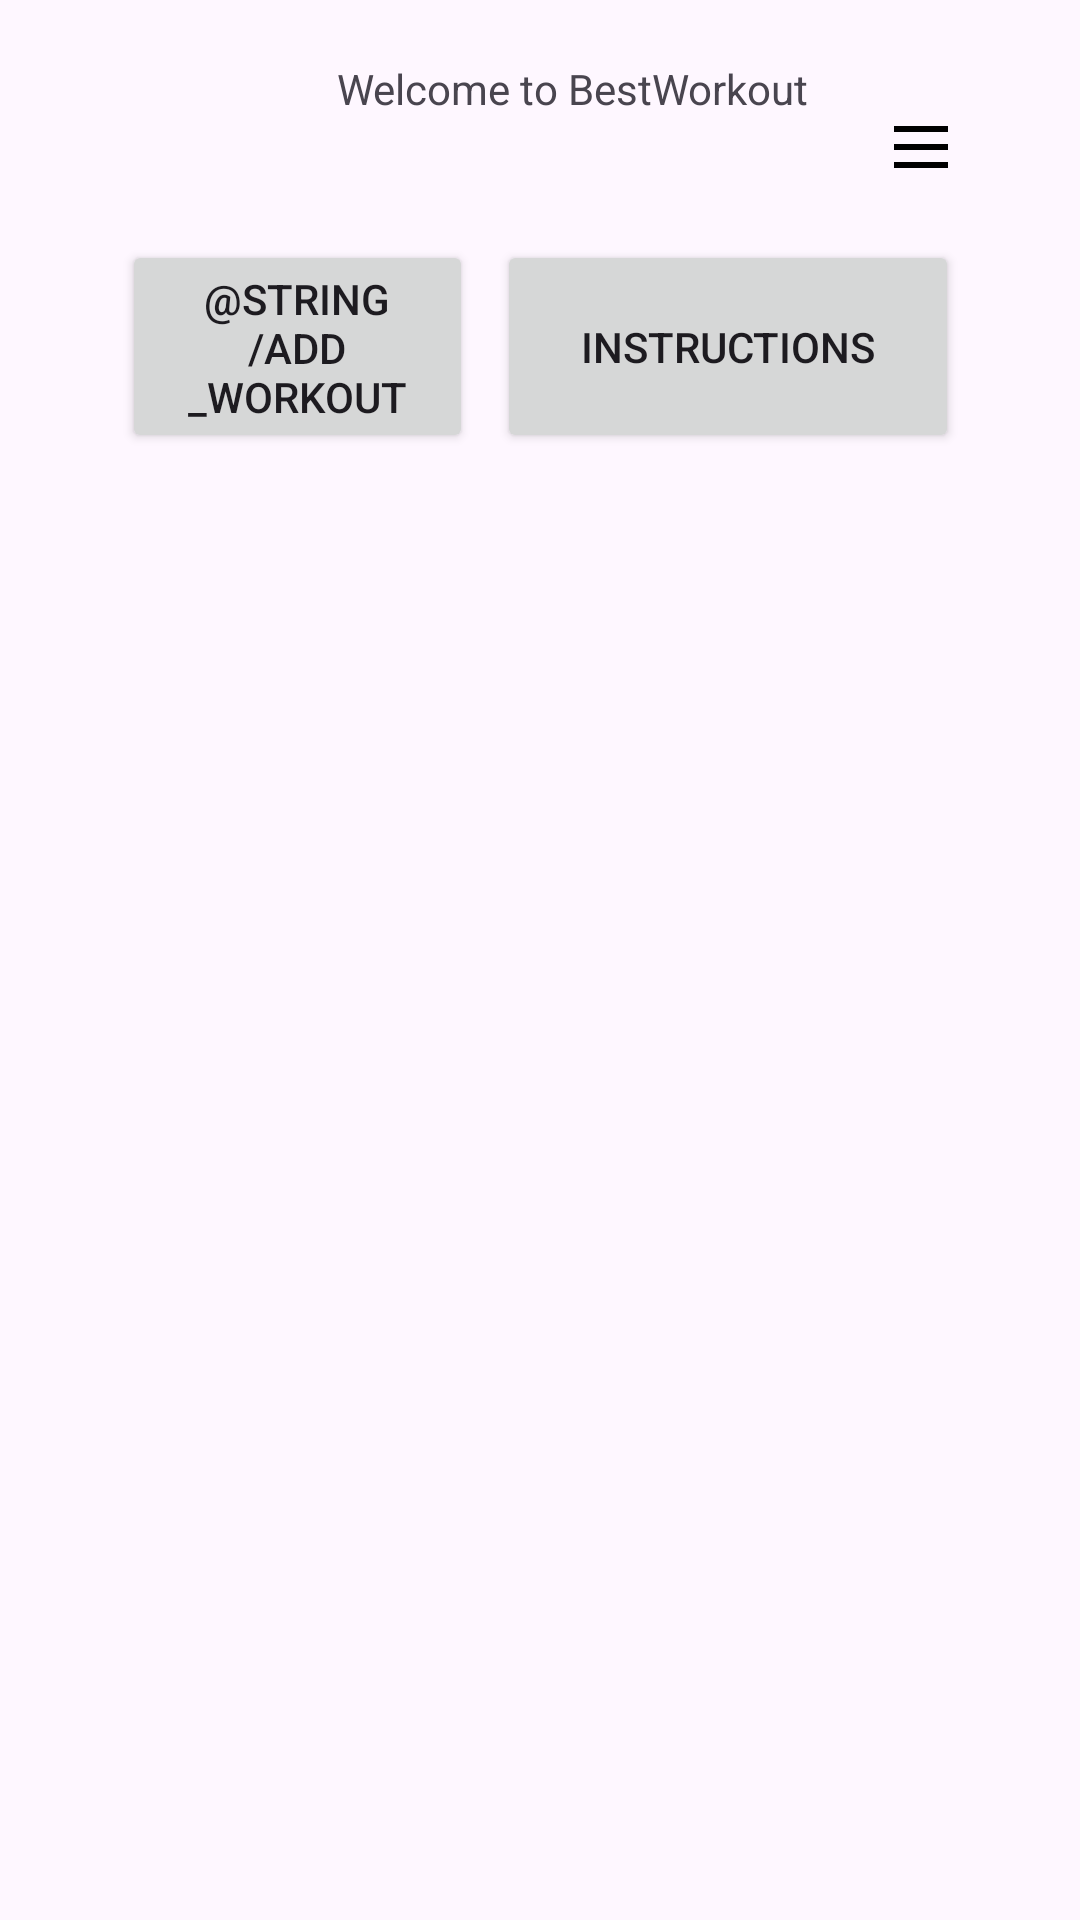

Icons on this 1080w x 1920h Android screen, each with its box as (x1, y1, x2, y2):
menu: (894, 126, 948, 168)
